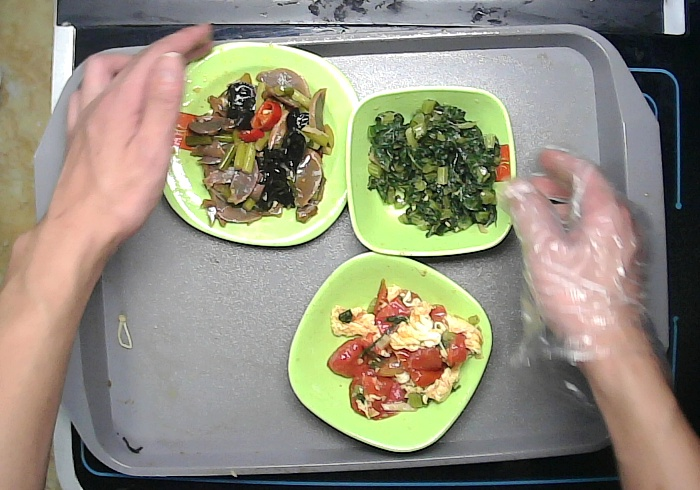SHKJ-Lv_Se_Cai_Die: (282, 250, 495, 454)
SHKJ-Lv_Se_Si_Fang_Cai_Die: (148, 36, 363, 250)
SHKJ-Lv_Se_Xiao_Fang_Die: (342, 83, 519, 264)
